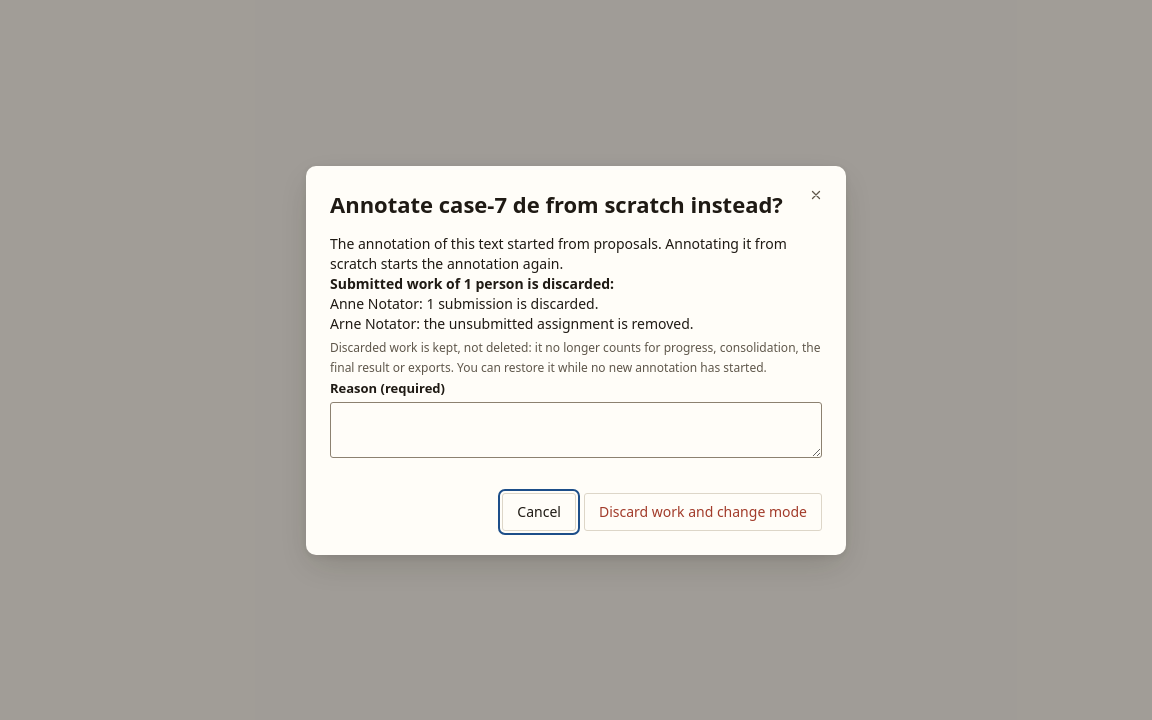
Test: ChangeModeDialog › shows the new list when the work changed since the warning
Expected: the list item "Anne Notator: 1 submission is discarded." is shown, [330, 294, 598, 312]
Type "x" into the text box labelled "Reason (required)" at (576, 430), box [330, 402, 822, 458]
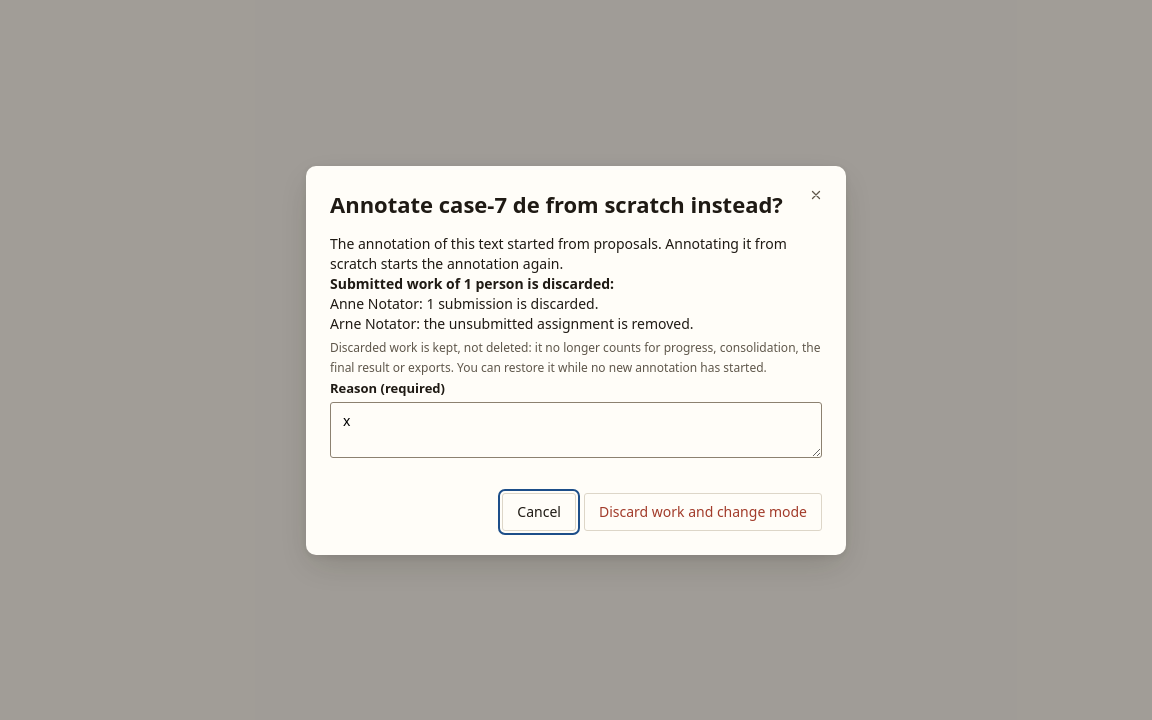
Click the button "Discard work and change mode" at (703, 512), box [584, 492, 822, 530]
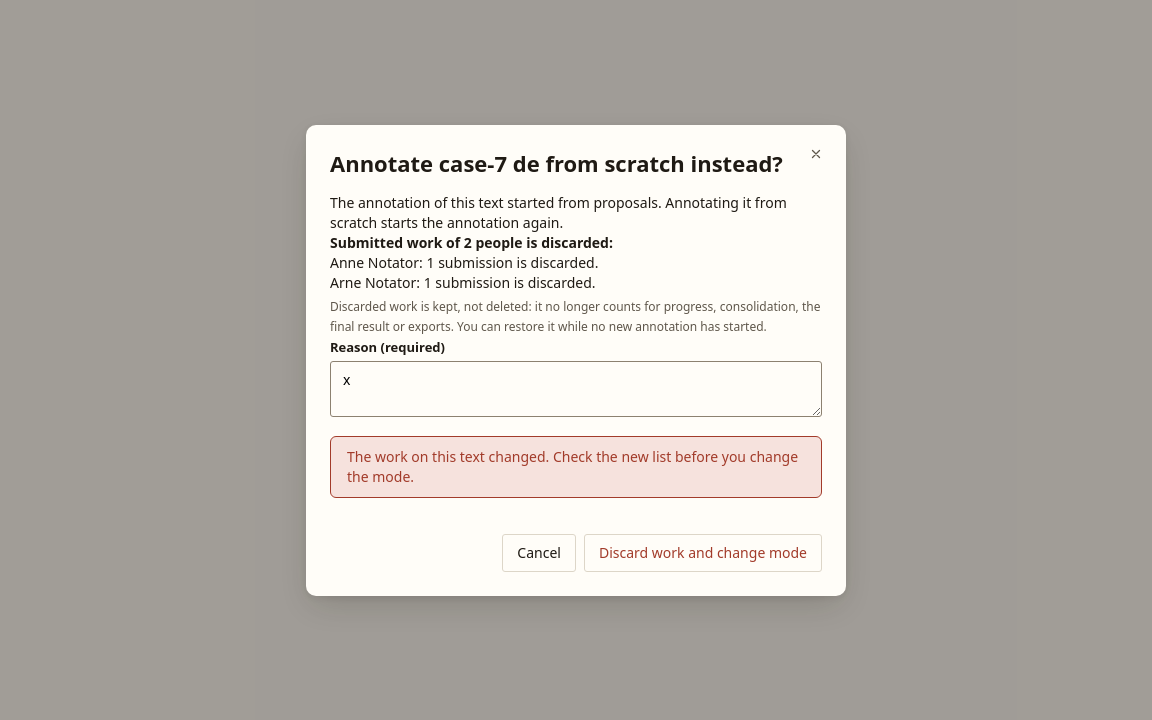
Expected: the text "The work on this text changed. Check the new list before you change the mode." is shown, [347, 446, 805, 486]
Expected: the text "Submitted work of 2 people is discarded:" is shown, [330, 232, 613, 252]
Expected: the list item "Arne Notator: 1 submission is discarded." is shown, [330, 272, 596, 292]
